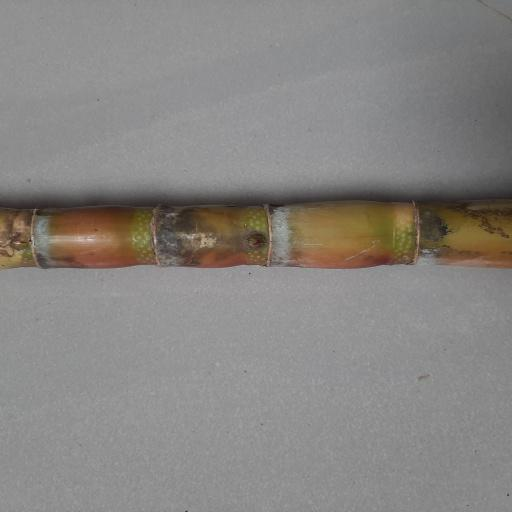Bud: (245, 230, 270, 250)
